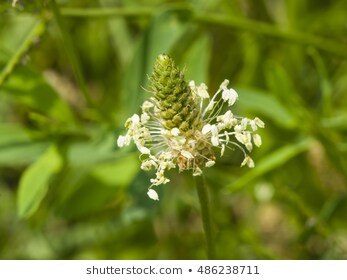buckhorn plantain: (121, 45, 269, 252)
